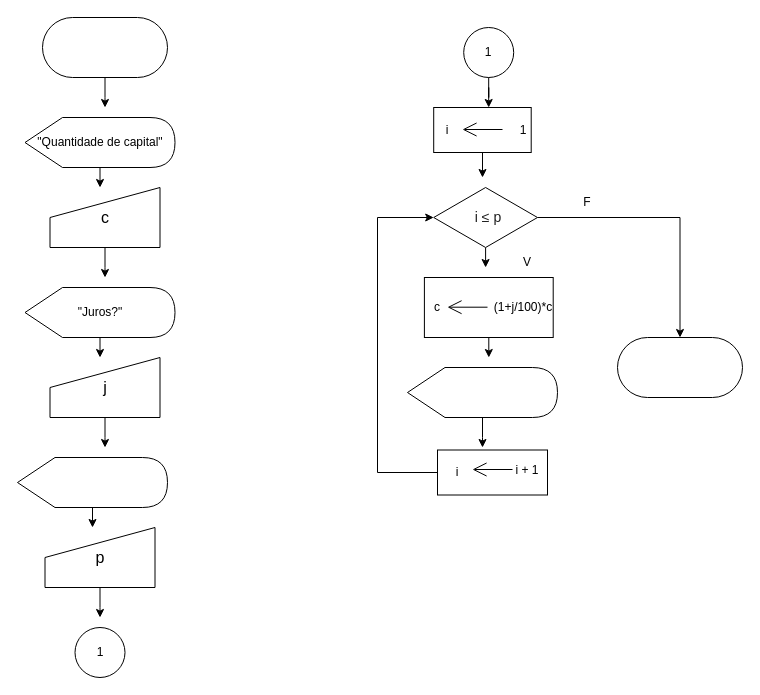
The diagram is 760 pixels wide and 695 high, and some of its shapes have lost their labels. The centre of each missing label's shape, as x and y in pixels:
"Período?": (x=92, y=482)
Fim: (x=679, y=367)
i, "o.mês: ", c: (x=482, y=392)
Início: (x=105, y=47)
